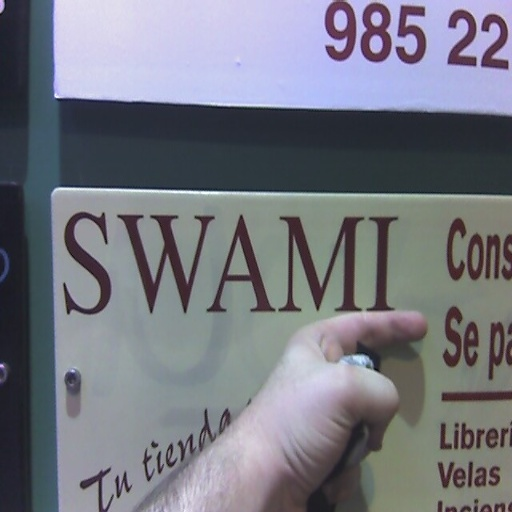hand: (254, 309, 431, 510)
